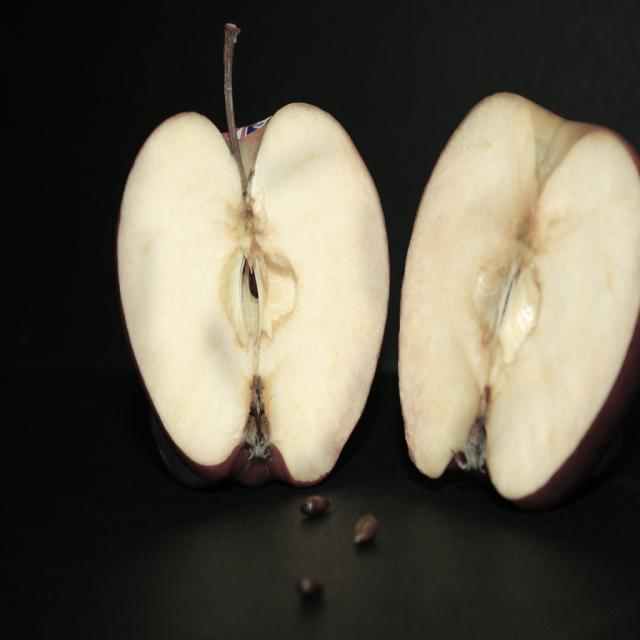Healty Apple: (125, 28, 412, 491), (392, 93, 640, 514)
